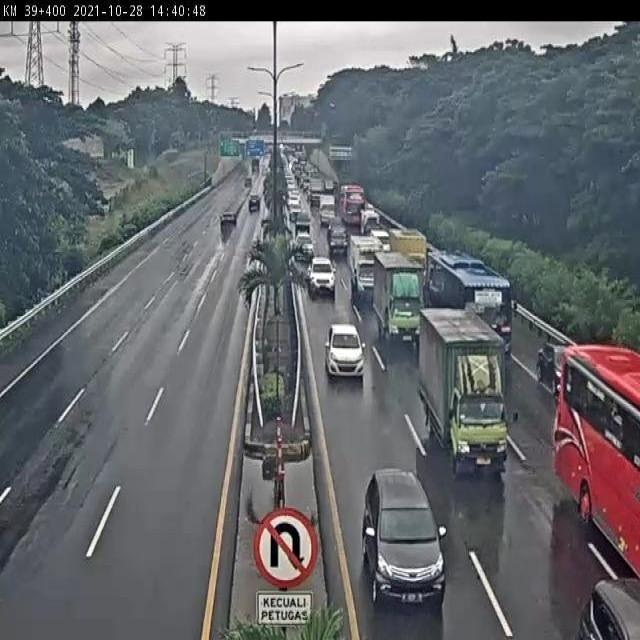bus-l-: (559, 347, 640, 557), (426, 248, 513, 364)
car: (360, 470, 448, 606), (324, 319, 368, 381), (534, 341, 570, 392), (305, 253, 335, 292)
truck-m-: (422, 311, 510, 472), (373, 250, 427, 346), (349, 236, 386, 303)
